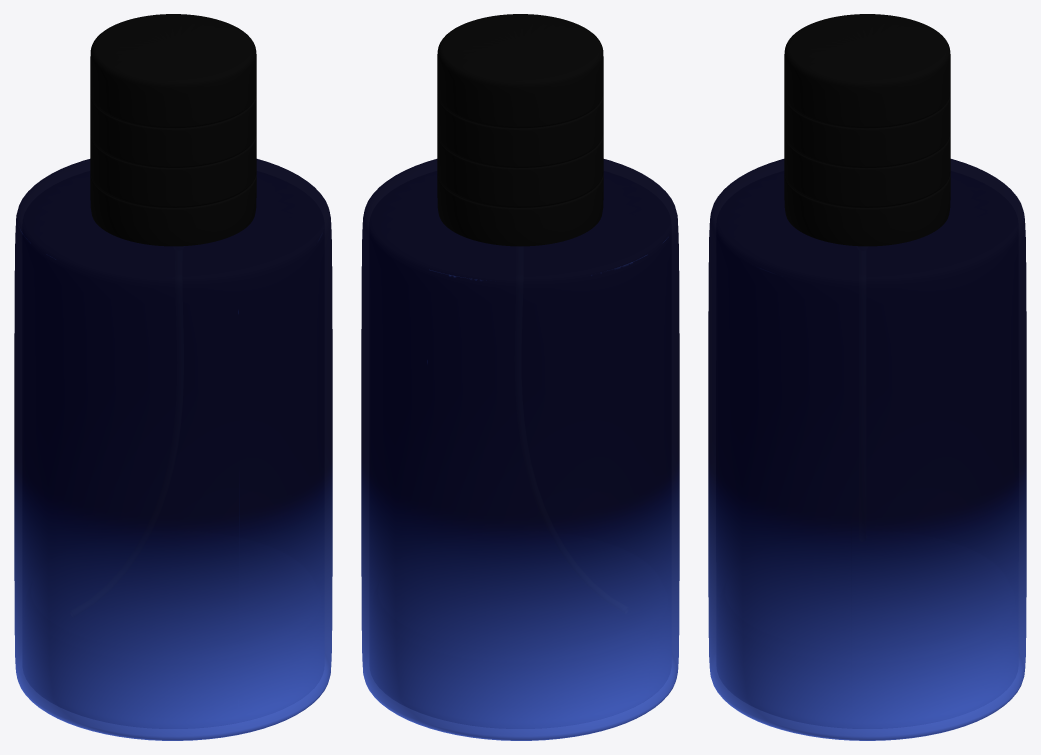
3 renders of one model, left to right at view 1: azimuth 30°, elevation 25°; view 2: azimuth 150°, elevation 25°; view 3: azimuth 270°, elevation 25°, orthographic.
Parts seen in each view (by area): view 1: sauvage, cap; view 2: sauvage, cap; view 3: sauvage, cap.
Part boxes in pixels (x1,y1,x2,y2): sauvage: (14, 159, 332, 740); cap: (90, 14, 256, 246); sauvage: (361, 159, 679, 740); cap: (437, 14, 603, 246); sauvage: (708, 159, 1026, 740); cap: (784, 14, 950, 246).
Size of the model in its own units: 3.81 by 8.31 by 3.81.
5 materials, 2 textured.
